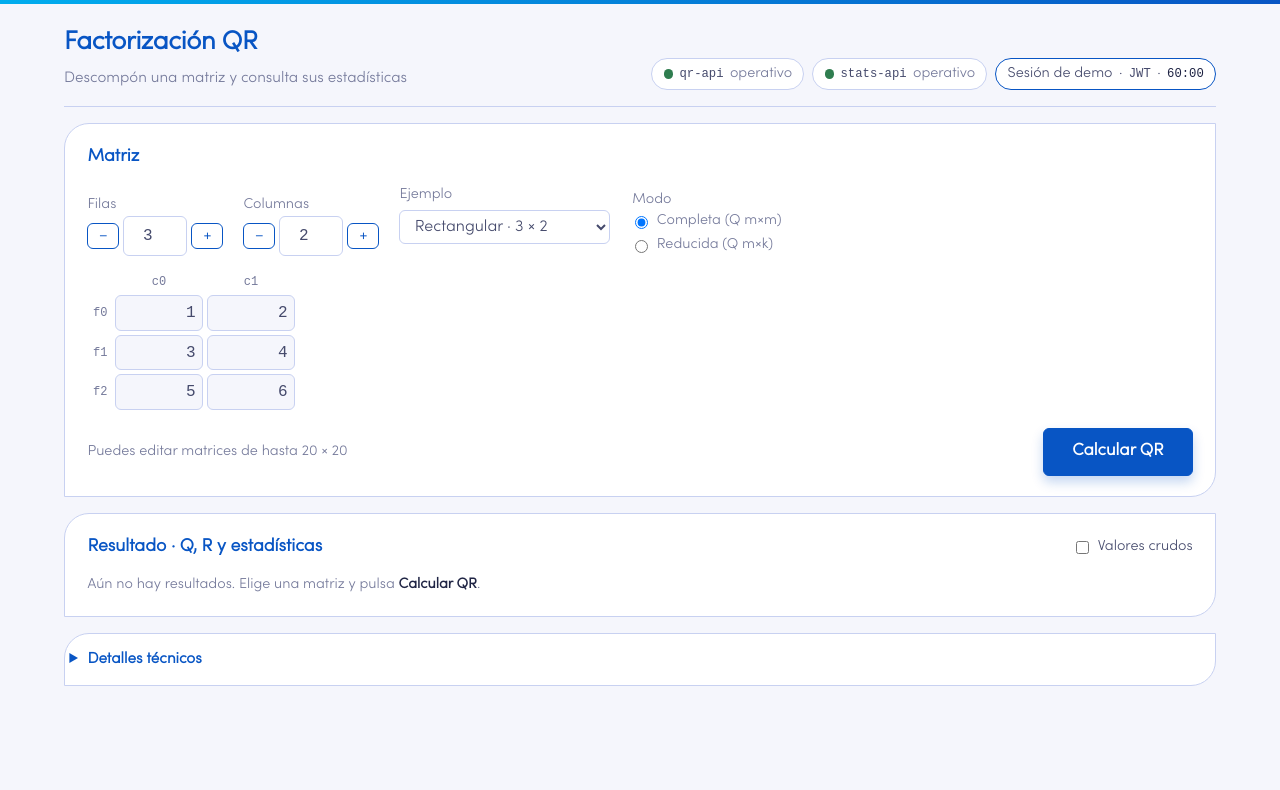
Scenario: App › copies a rendered matrix to the clipboard as JSON
Click the button "Calcular QR" at (1118, 452), box top-left (1043, 428), bottom-right (1193, 476)
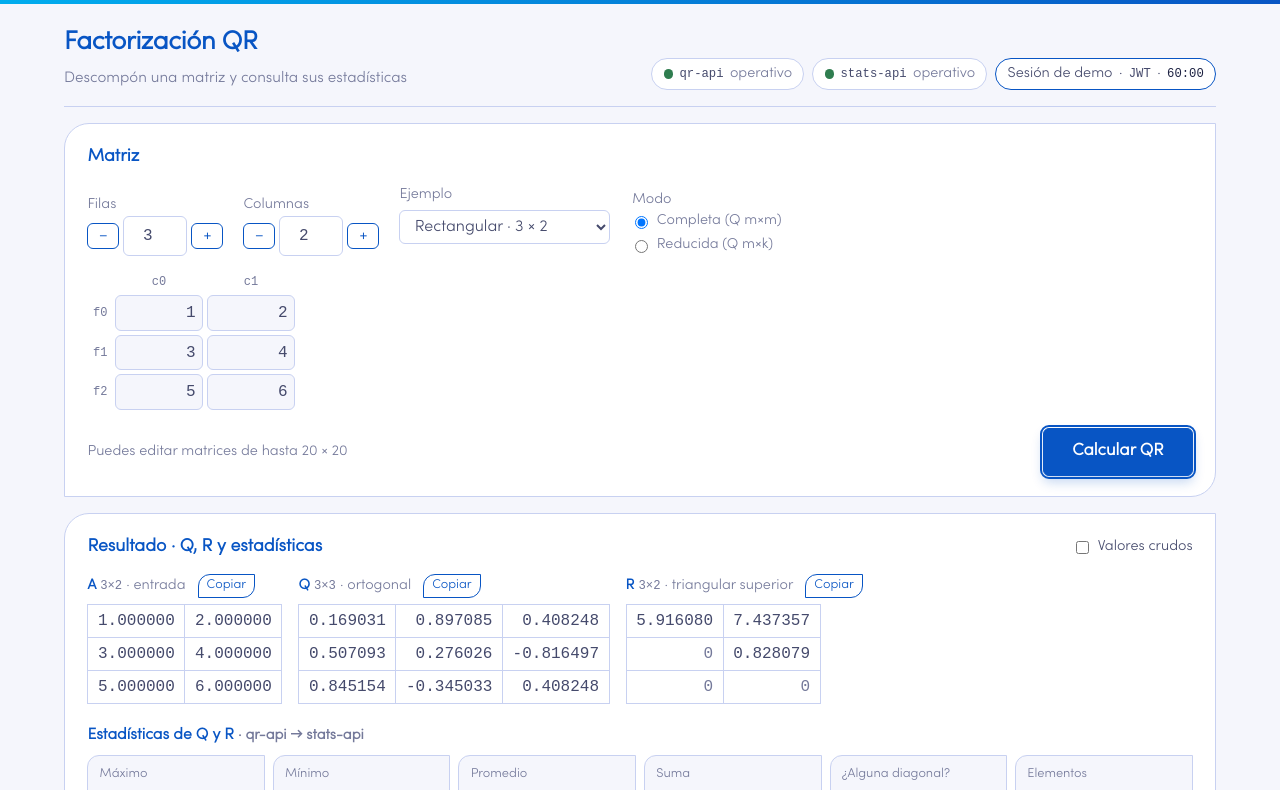
Click the button with aria-label "Copiar Q en JSON" at (452, 586), box top-left (423, 574), bottom-right (481, 598)
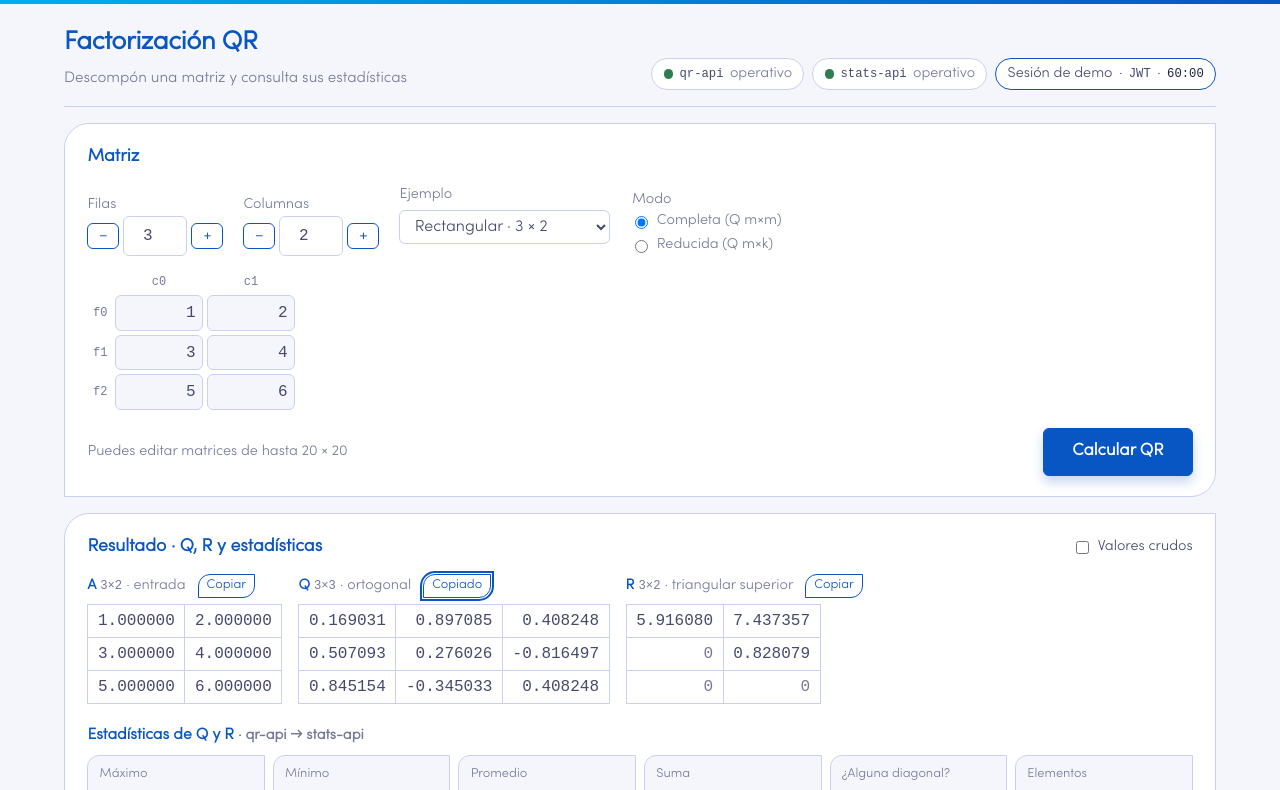
Expected: the button with aria-label "Copiar R en JSON" reads "Copiar", top-left (805, 574), bottom-right (863, 598)
Expected: the button with aria-label "Copiar Q en JSON" reads "Copiado", top-left (423, 574), bottom-right (491, 598)
